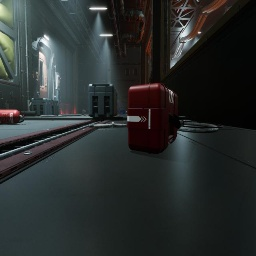0: (126, 111, 127, 114)
EmergencyPhone ,: (35, 69, 38, 81)
FireAlarm ,: (151, 52, 152, 61), (33, 71, 34, 78)
FireExtinguisher ]: (0, 109, 25, 124)
FirstAidBox ,: (127, 83, 184, 154)
NitrogenTank ,: (82, 110, 86, 114)
SafetySwitchPanel ,: (55, 72, 61, 90)
